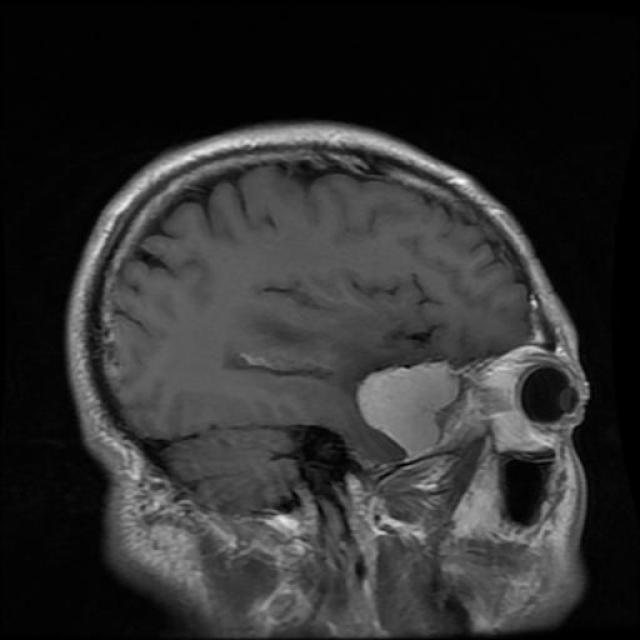meningioma: (344, 351, 458, 461)
